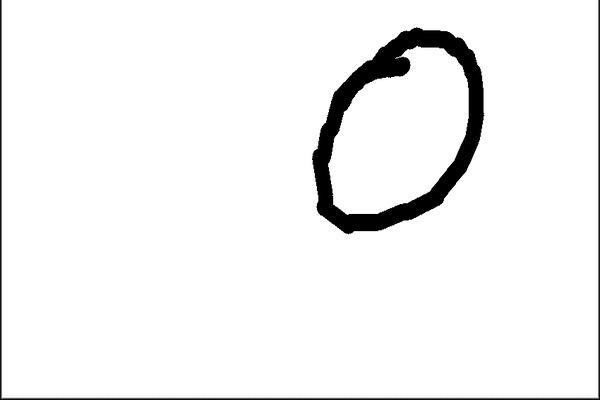O: (306, 14, 486, 247)
